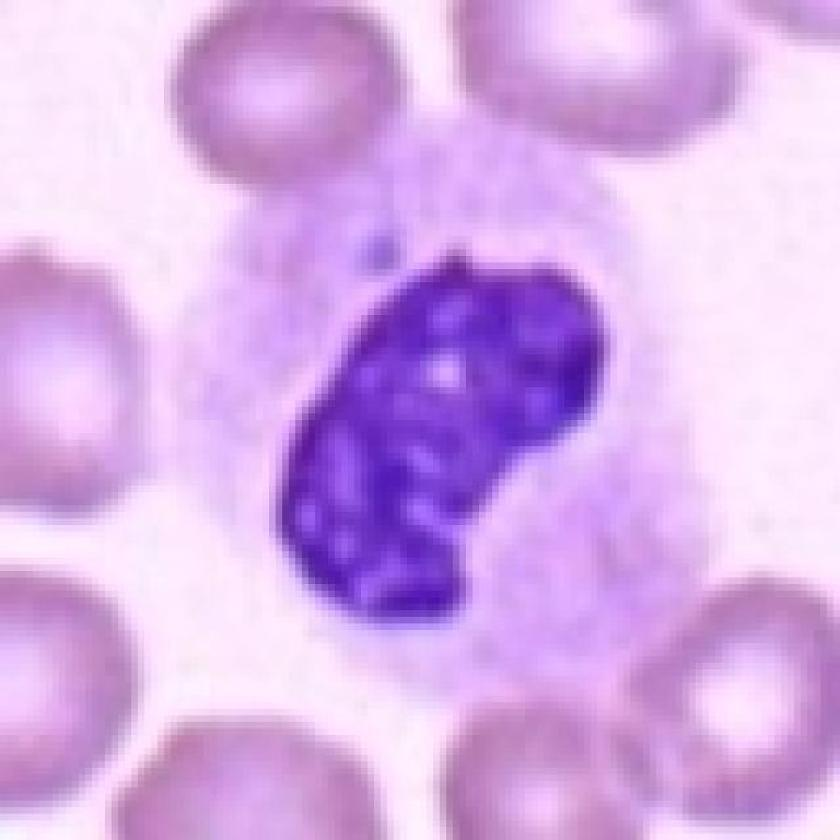neutrophil: (152, 113, 719, 710)
